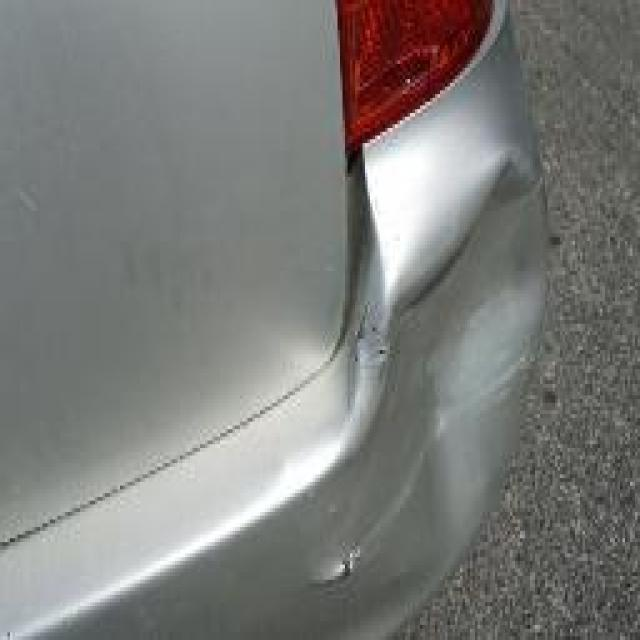Bumper: (348, 124, 548, 591)
